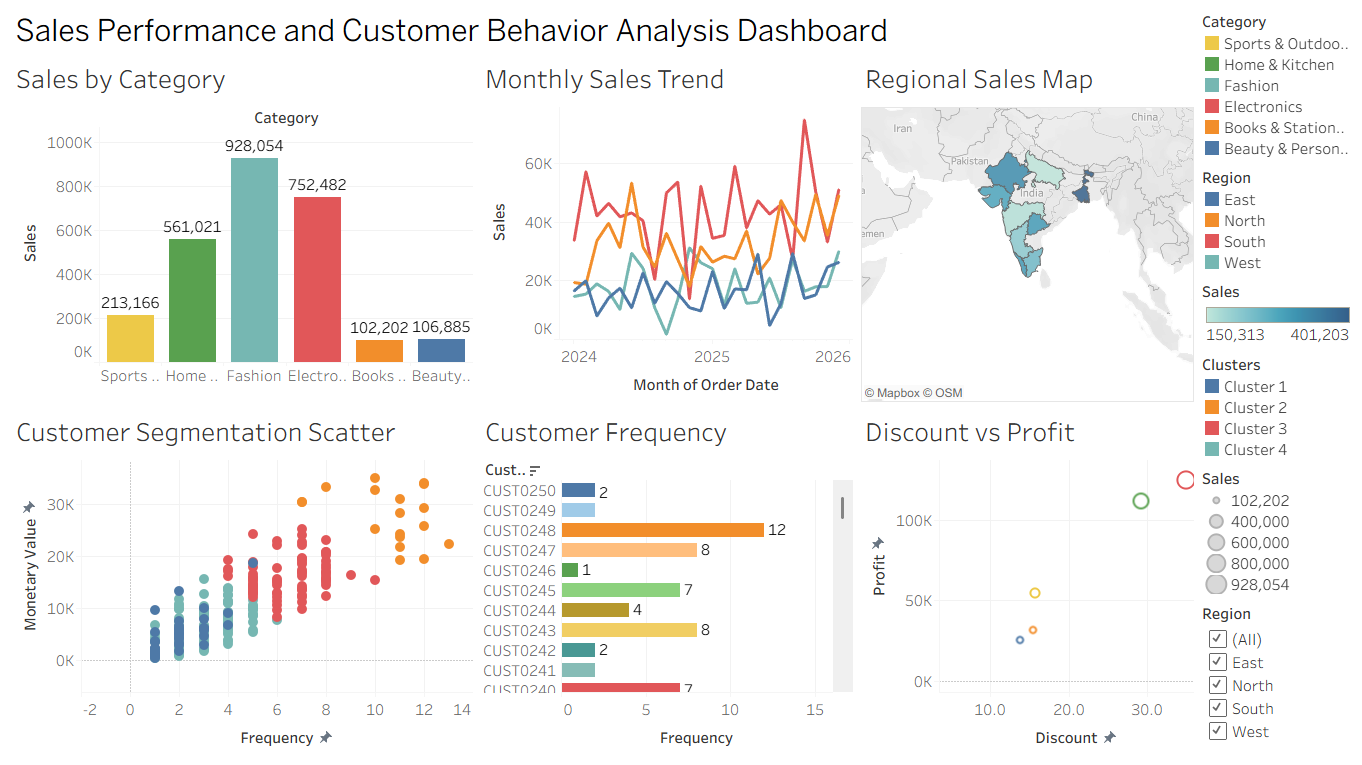

The page's visual inventory and layout, read from the dashboard file:
{"tool":"tableau","page":{"name":"Dashboard 3","canvas":[1366,768],"ordinal":2},"visuals":[{"type":"title","box":[8,8,1190,46]},{"type":"legend","title":"Sales by Category","param":"[federated.12m2oaj0b4kn4w1bumvwr09g5e7t].[none:Category:nk]","box":[1198,8,160,156]},{"type":"worksheet","title":"Sales by Category","mark":"Bar","rows":["Sales"],"cols":["Category"],"box":[8,54,469.3,353]},{"type":"worksheet","title":"Monthly Sales Trend","mark":"Line","rows":["Sales"],"cols":["Order Date"],"box":[477.3,54,379.8,353]},{"type":"worksheet","title":"Regional Sales Map","mark":"Automatic","box":[857.2,54,340.8,353]},{"type":"legend","title":"Monthly Sales Trend","param":"[federated.12m2oaj0b4kn4w1bumvwr09g5e7t].[none:Region:nk]","box":[1198,164,160,114]},{"type":"legend","title":"Regional Sales Map","param":"[federated.12m2oaj0b4kn4w1bumvwr09g5e7t].[sum:Sales:qk]","box":[1198,278,160,73]},{"type":"legend","title":"Customer Segmentation Scatter","param":"[federated.12m2oaj0b4kn4w1bumvwr09g5e7t].[none:AdhocCluster:1:ok]","box":[1198,351,160,114]},{"type":"worksheet","title":"Customer Segmentation Scatter","mark":"Circle","rows":["Calculation_1589670040629252"],"cols":["Calculation_1589670039916547"],"box":[8,407,469.3,353]},{"type":"worksheet","title":"Customer Frequency","mark":"Bar","rows":["Customer ID"],"cols":["Calculation_1589670039916547"],"box":[477.3,407,379.7,353]},{"type":"worksheet","title":"Discount vs Profit","mark":"Automatic","rows":["Profit"],"cols":["Discount"],"box":[857,407,341,353]},{"type":"legend","title":"Discount vs Profit","param":"[federated.12m2oaj0b4kn4w1bumvwr09g5e7t].[sum:Sales:qk]","box":[1198,465,160,135]},{"type":"filter","title":"Customer Frequency","param":"[federated.12m2oaj0b4kn4w1bumvwr09g5e7t].[none:Region:nk]","box":[1198,600,160,151]}]}

Visuals, with their boxes in screenshot pixels (x1, y1, x2, y2), scaled from the page's 1366x768 canvas onto the 1362x765 screenshot:
title: detection(8, 8, 1194, 54)
"Sales by Category" legend: detection(1194, 8, 1354, 163)
"Sales by Category" worksheet (Bar marks): detection(8, 54, 476, 405)
"Monthly Sales Trend" worksheet (Line marks): detection(476, 54, 855, 405)
"Regional Sales Map" worksheet: detection(855, 54, 1194, 405)
"Monthly Sales Trend" legend: detection(1194, 163, 1354, 277)
"Regional Sales Map" legend: detection(1194, 277, 1354, 350)
"Customer Segmentation Scatter" legend: detection(1194, 350, 1354, 463)
"Customer Segmentation Scatter" worksheet (Circle marks): detection(8, 405, 476, 757)
"Customer Frequency" worksheet (Bar marks): detection(476, 405, 854, 757)
"Discount vs Profit" worksheet: detection(854, 405, 1194, 757)
"Discount vs Profit" legend: detection(1194, 463, 1354, 598)
"Customer Frequency" filter: detection(1194, 598, 1354, 748)
